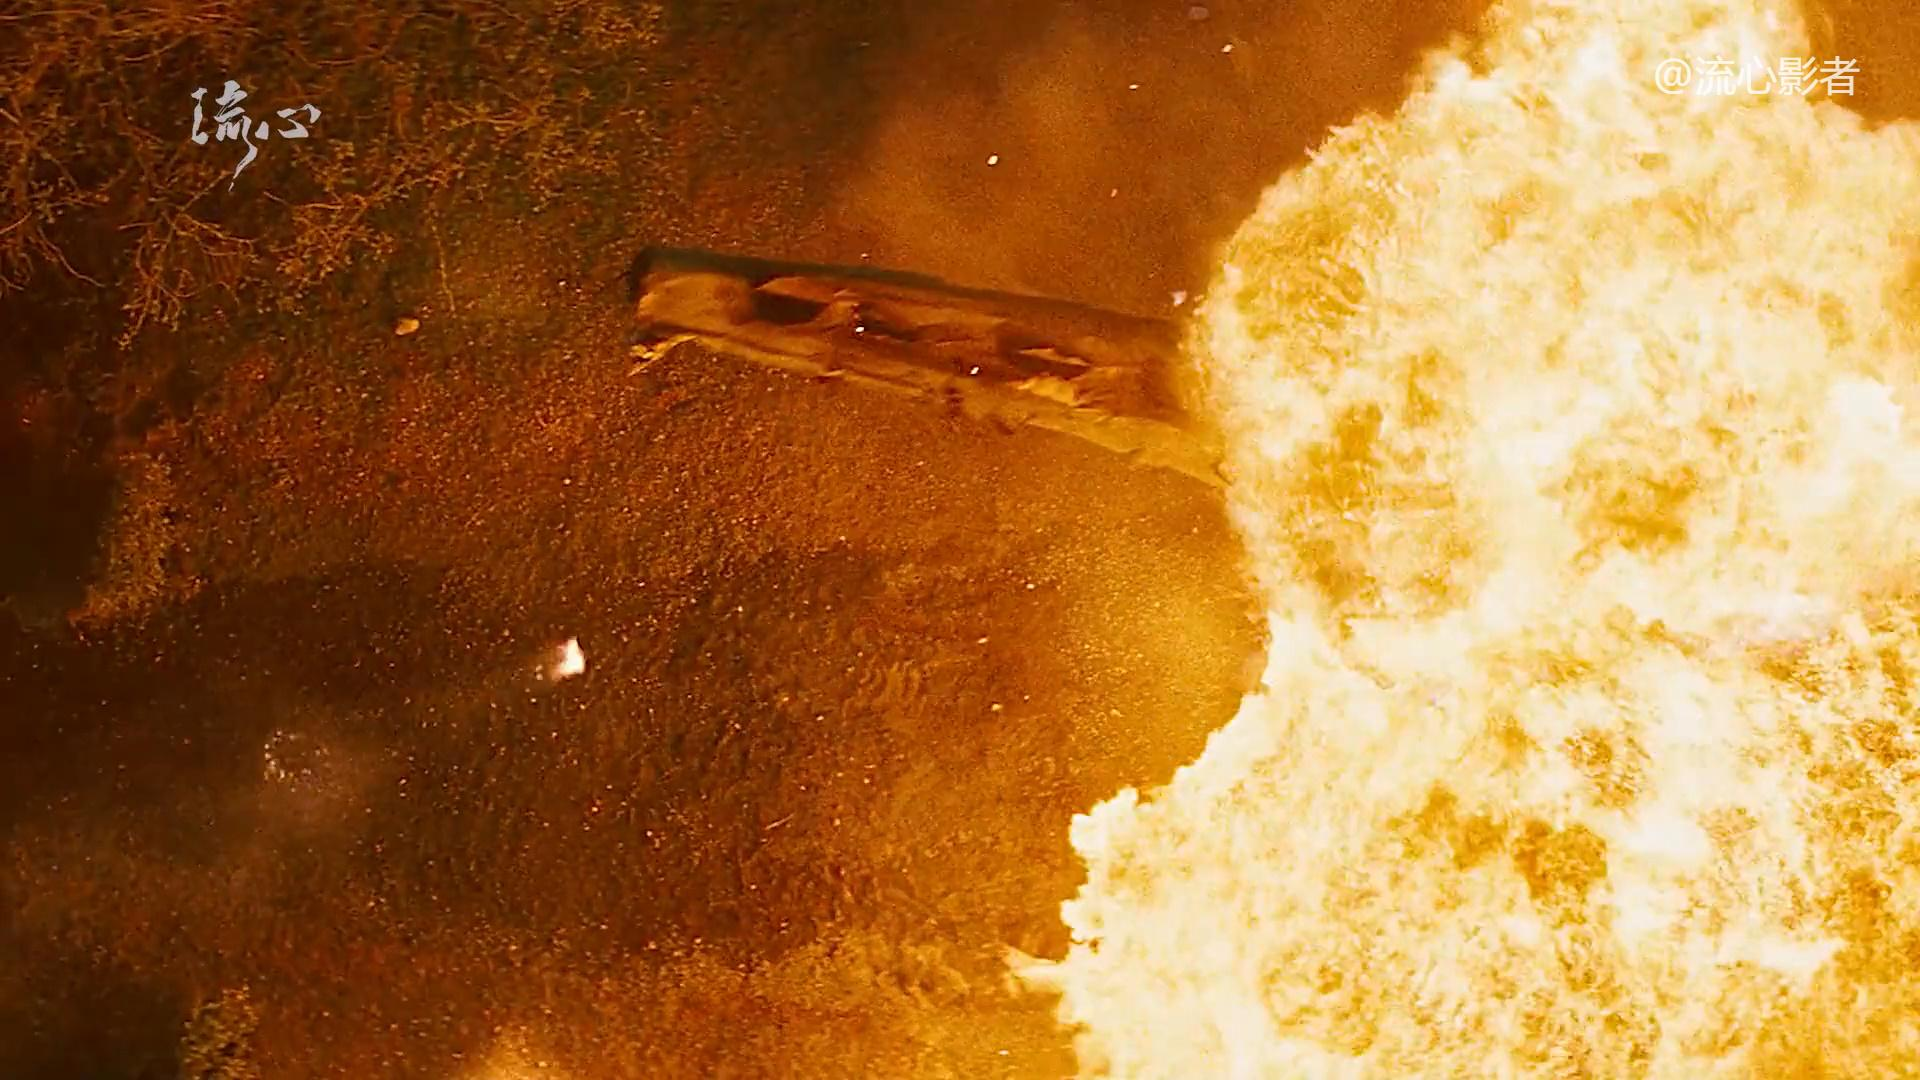fire: (1029, 0, 1920, 1080)
